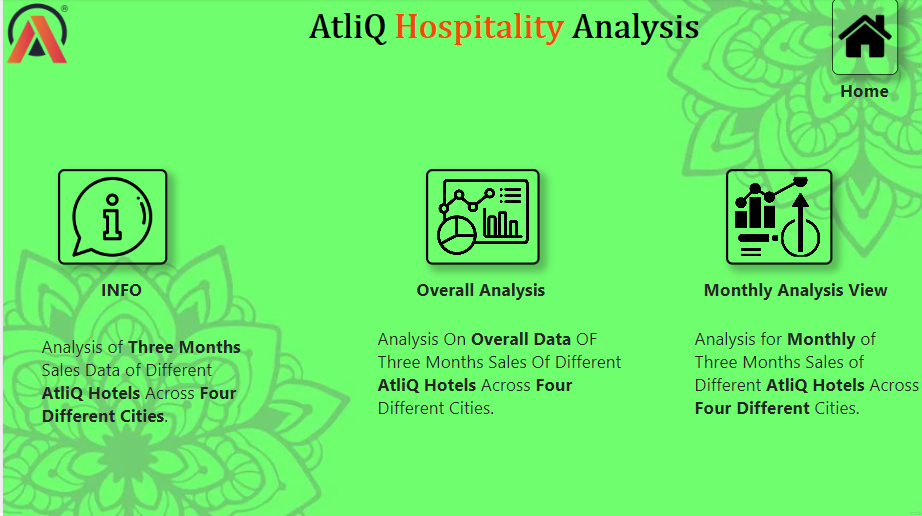

What the dashboard file says about the page in this screenshot:
{"tool":"powerbi","page":{"name":"Home","canvas":[1280,720],"ordinal":0},"visuals":[{"type":"image","box":[0,0,96.7,96.7],"z":0},{"type":"image","box":[588.3,238.3,158.3,133.3],"z":1000},{"type":"image","box":[1005,238.3,148.3,133.3],"z":2000},{"type":"textbox","box":[420,10,585,113.3],"z":3000},{"type":"image","box":[76.7,238.3,151.7,133.3],"z":4000},{"type":"textbox","box":[101.7,383.3,126.7,55],"z":5000},{"type":"textbox","box":[48.3,463.3,301.7,165],"z":6000},{"type":"textbox","box":[570,383.3,223.3,80],"z":7000},{"type":"textbox","box":[515,451.7,368.3,176.7],"z":8000},{"type":"textbox","box":[968.3,383.3,275,80],"z":9000},{"type":"textbox","box":[956.7,451.7,323.3,176.7],"z":10000},{"type":"image","box":[1151.7,0,91.7,106.7],"z":11000},{"type":"textbox","box":[1135,106.7,123.3,50],"z":12000}]}

Visuals, with their boxes in screenshot pixels (x1, y1, x2, y2), scaled from the page's 1280x720 canvas onto the 922x516 screenshot:
image: detection(0, 0, 70, 69)
image: detection(424, 171, 538, 266)
image: detection(724, 171, 831, 266)
textbox: detection(303, 7, 724, 88)
image: detection(55, 171, 165, 266)
textbox: detection(73, 275, 165, 314)
textbox: detection(35, 332, 252, 450)
textbox: detection(411, 275, 571, 332)
textbox: detection(371, 324, 636, 450)
textbox: detection(697, 275, 896, 332)
textbox: detection(689, 324, 921, 450)
image: detection(830, 0, 896, 76)
textbox: detection(818, 76, 906, 112)
